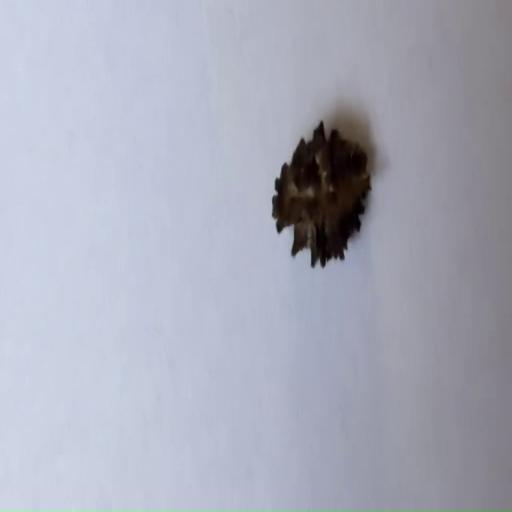papaya_seed: (258, 108, 380, 278)
